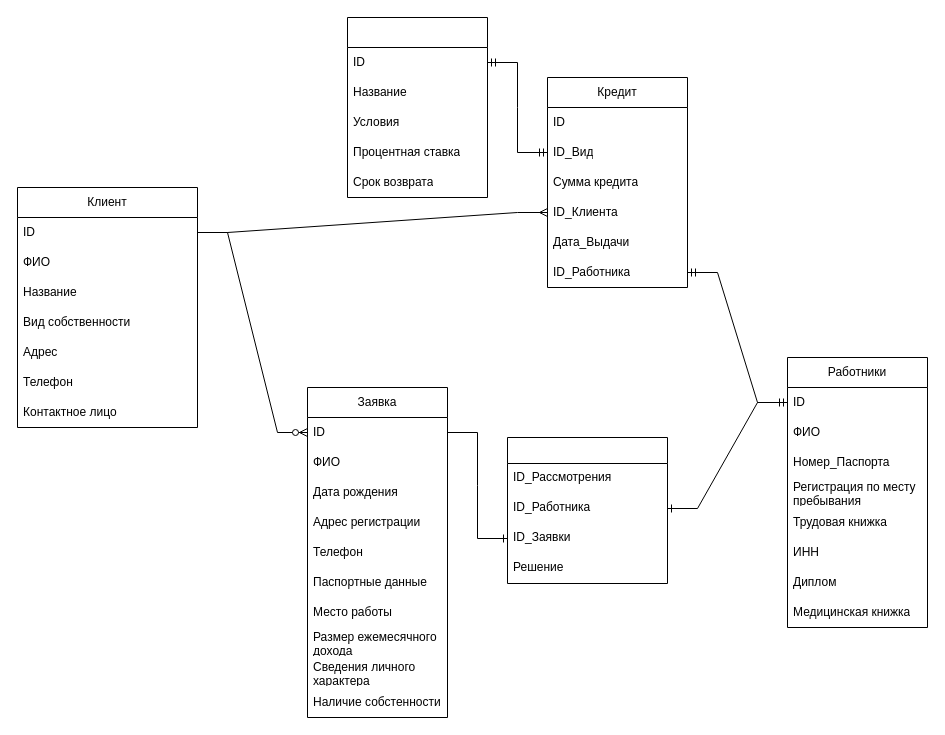
This 945x735 diagram has some shape labels left out. The shapes that lost their labels are listed below. From the top down, each one's box as (x1, y1, x2, y2) in pixels, then its label:
(346, 16, 488, 198): Вид Кредит
(506, 436, 668, 584): Рассмотрение
